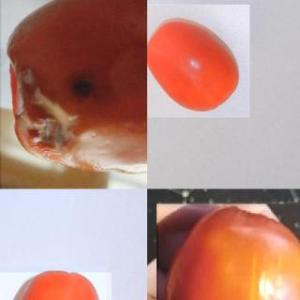tomato: (148, 5, 250, 118), (0, 272, 112, 300)
